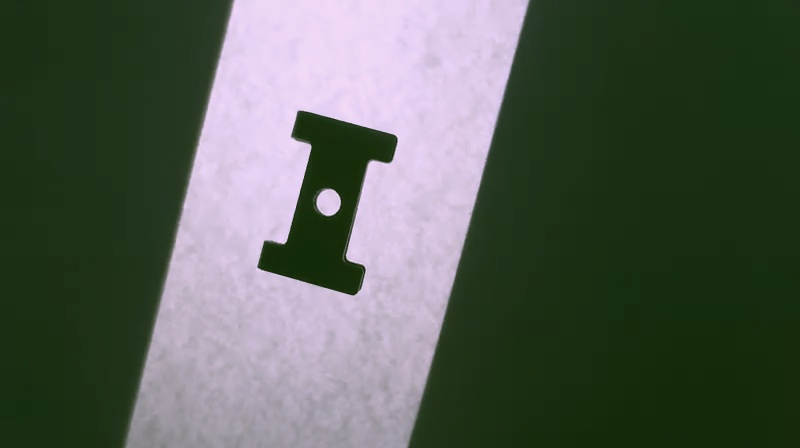O002: (250, 106, 403, 296)
